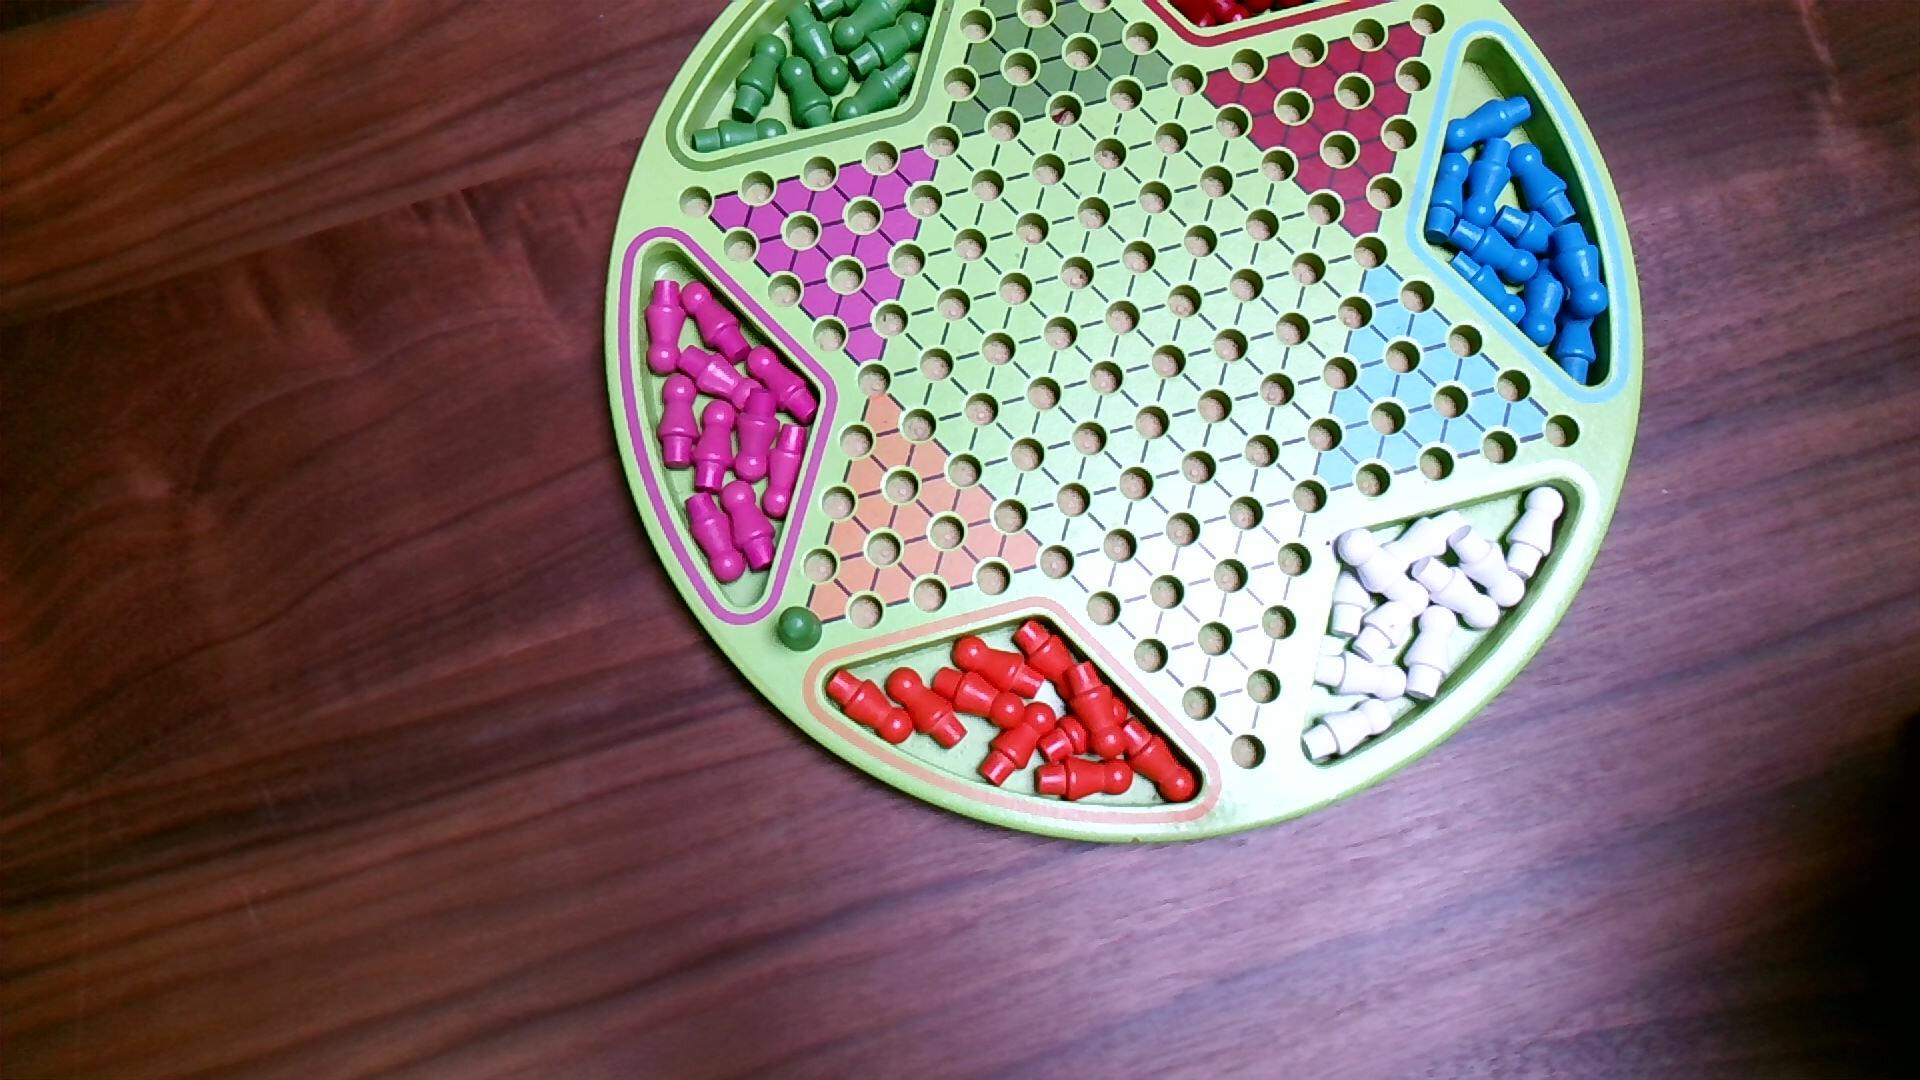R2: (775, 604, 825, 654)
